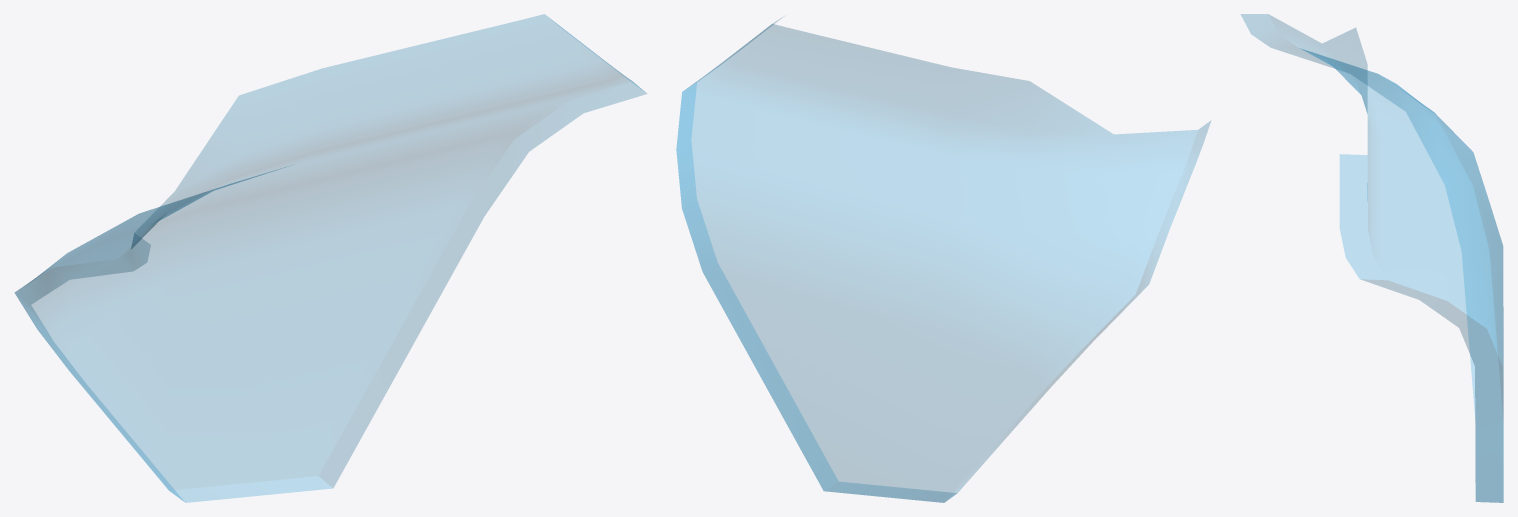
Rendered from p_hvs_minidungeon_rewardlocker_shatterglass_part04.fbx.
The picture shows the model from 3 angles, left to right: view 1: azimuth 30°, elevation 25°; view 2: azimuth 150°, elevation 25°; view 3: azimuth 270°, elevation 25°; orthographic projection. The views are drawn at different scales.
Visible parts, largest first — view 1: 4_shatterglass; view 2: 4_shatterglass; view 3: 4_shatterglass.
Part boxes in pixels (x1=…): 4_shatterglass: x1=14, y1=14, x2=646, y2=502; 4_shatterglass: x1=676, y1=17, x2=1210, y2=502; 4_shatterglass: x1=1241, y1=14, x2=1503, y2=502.
Size of the model in its own units: 2.04 by 1.6 by 0.9403.
